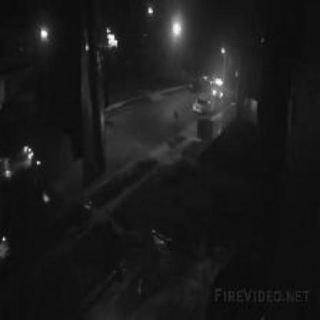other: (139, 3, 185, 40), (203, 47, 233, 97), (0, 141, 37, 174), (34, 24, 54, 42)
